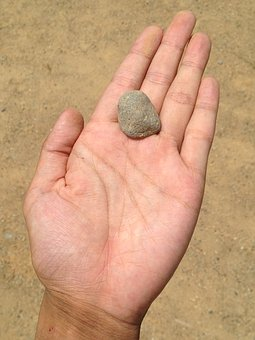palm: (52, 131, 186, 284)
